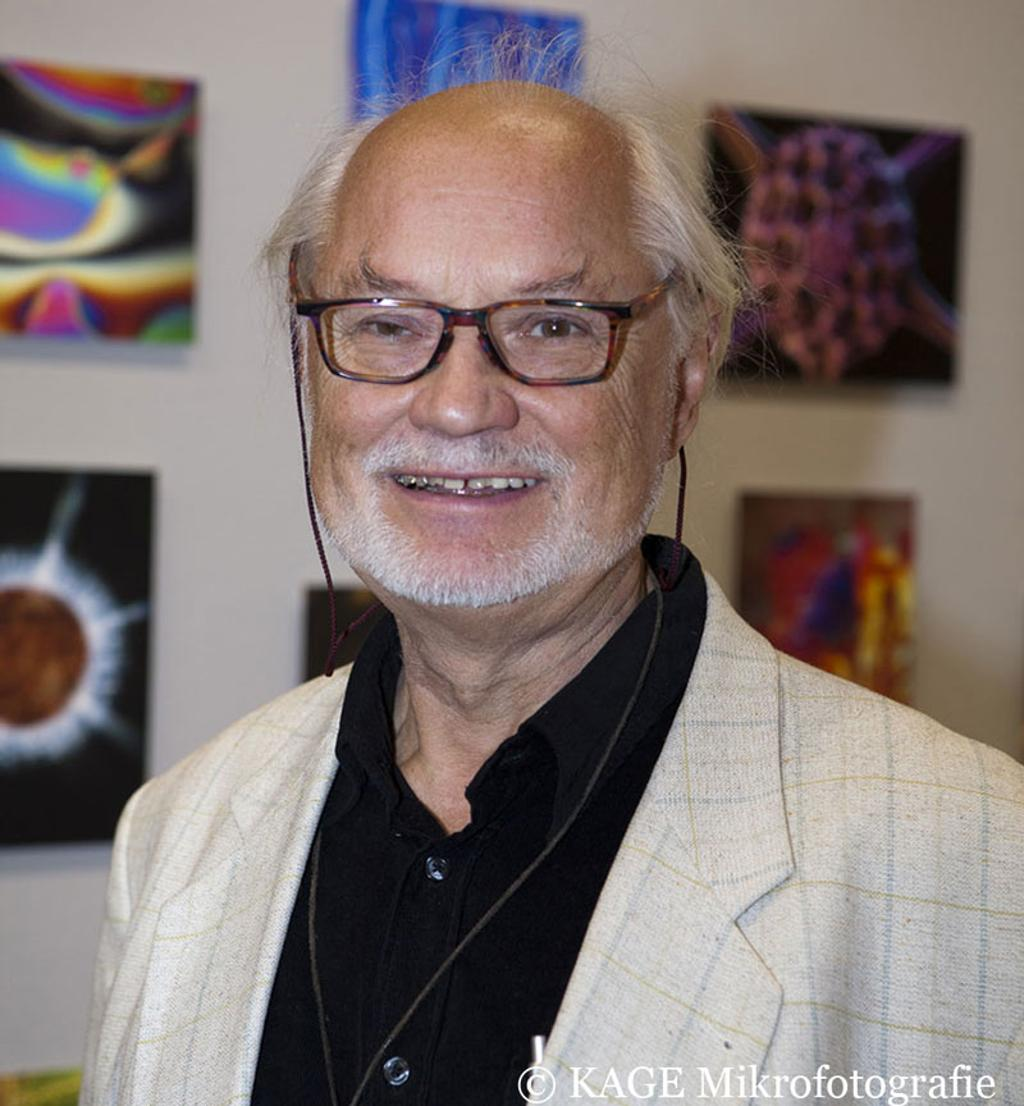face: (311, 119, 678, 601)
